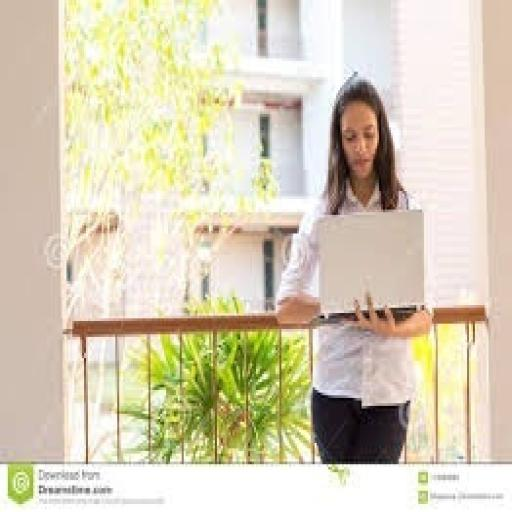using_laptop: (315, 207, 426, 318)
